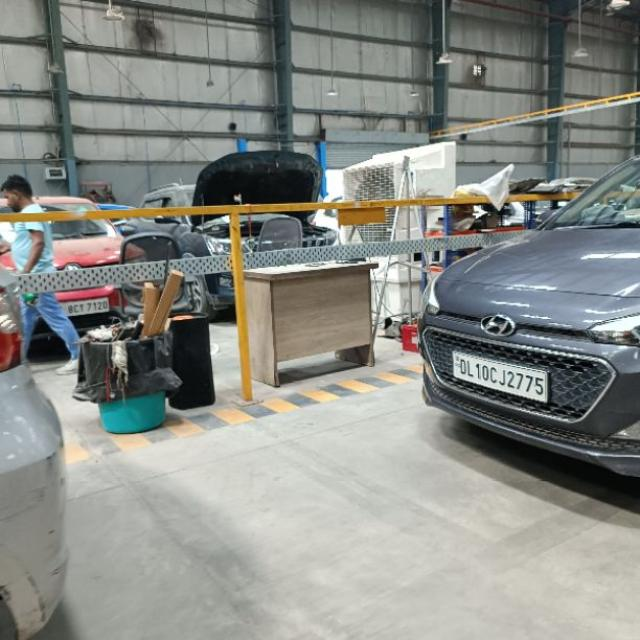license_plate: (450, 347, 550, 404)
